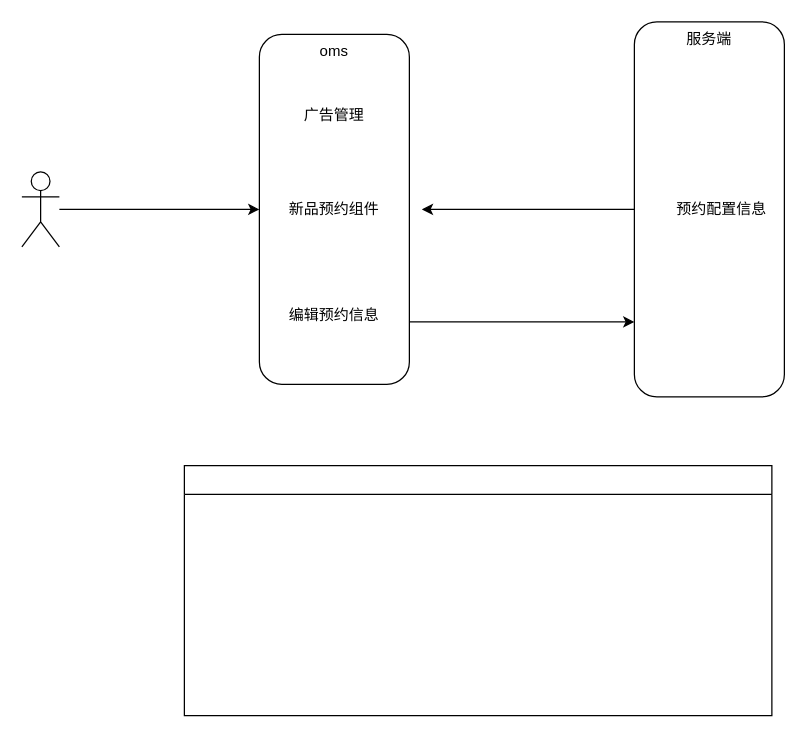
Some shapes in this 806 by 738 pixel diagram are drawn without their labels. The shapes that lost their labels are listed below. From the top down, each one's centre as x and y in pixels, then its label:
[40,209]: Actor
[477,590]: 预约表单信息
